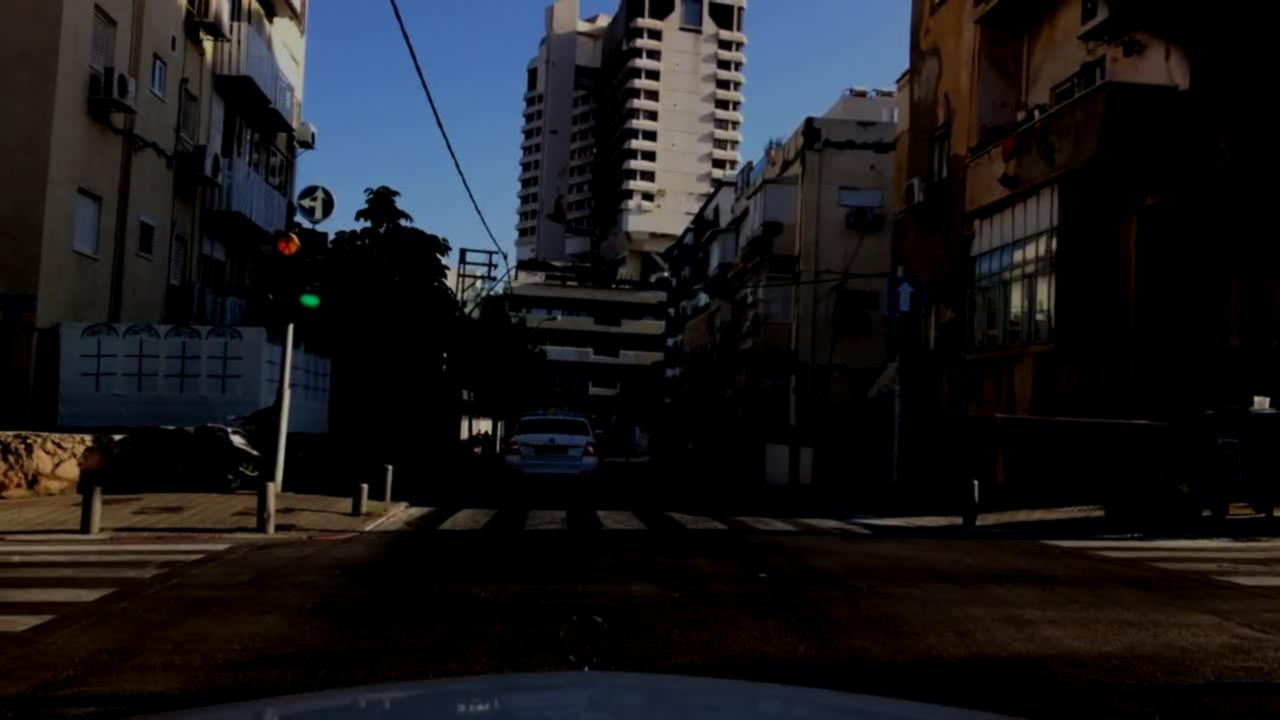Mercedes: (557, 610, 617, 670)
